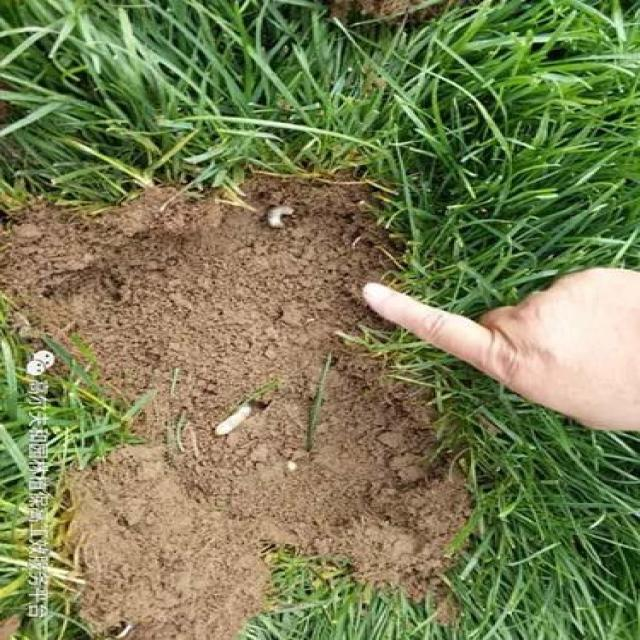grub: (254, 207, 308, 239), (208, 404, 251, 438)
